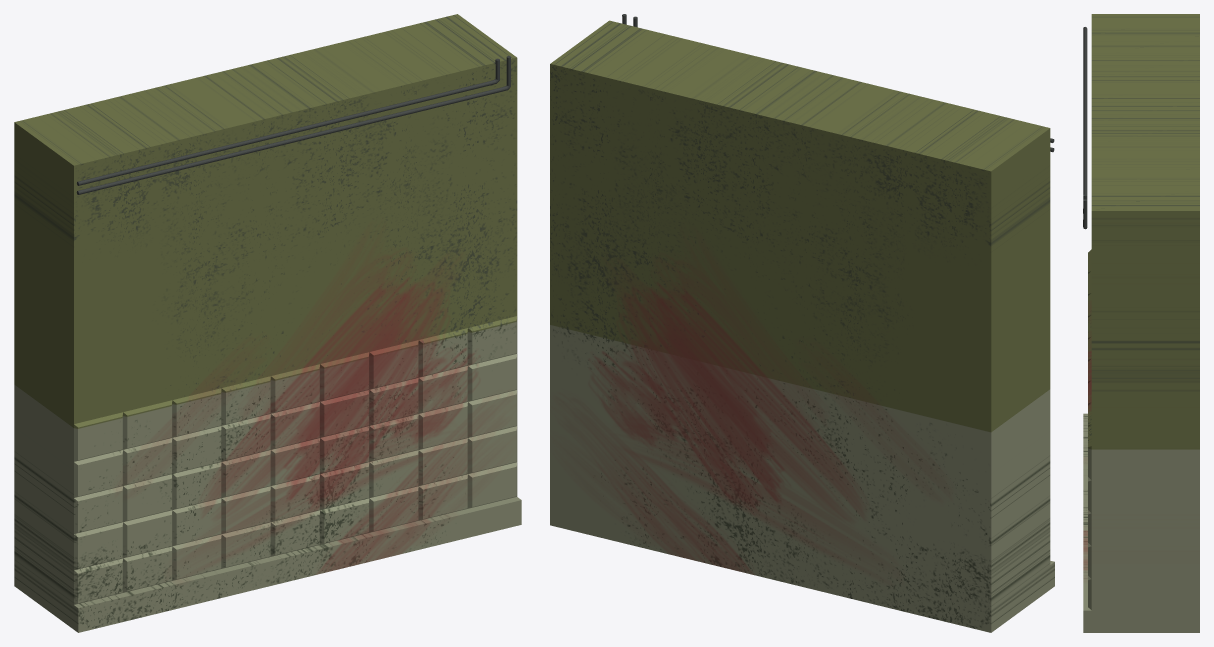
Rendered from Wall_1_R.fbx.
The picture shows the model from 3 angles, left to right: view 1: azimuth 30°, elevation 25°; view 2: azimuth 150°, elevation 25°; view 3: azimuth 270°, elevation 25°; orthographic projection. The views are drawn at different scales.
Visible parts, largest first — view 1: Circle.003; view 2: Circle.003; view 3: Circle.003.
Boxes of the visible parts, x1,y1,x2,y2 form: Circle.003: (14,14,521,632); Circle.003: (550,14,1054,632); Circle.003: (1083,14,1199,632).
Bounding box in the file's own units: 4 × 4.05 × 1.
